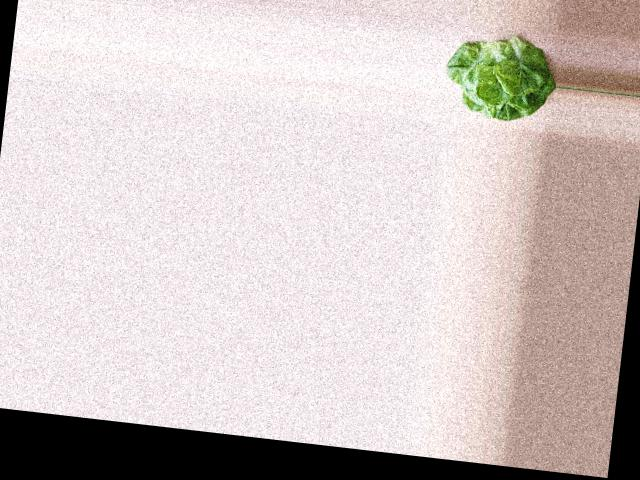lettuce: (444, 32, 558, 125)
